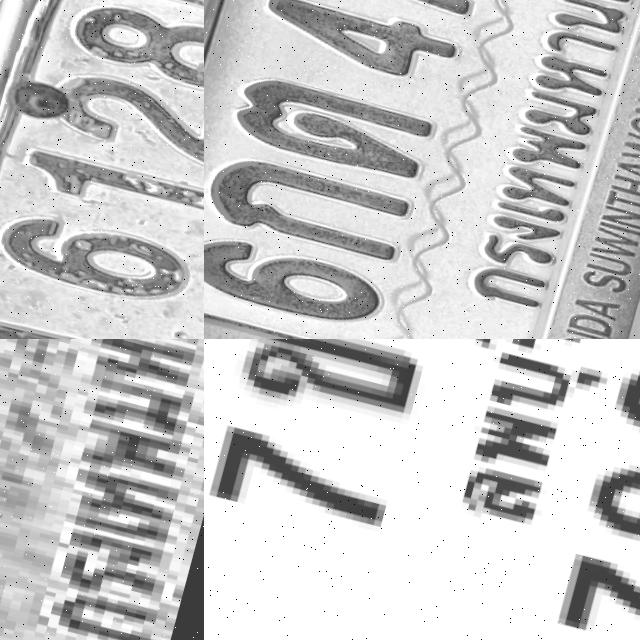license-plate: (204, 0, 640, 339), (204, 339, 640, 640), (0, 0, 204, 339), (0, 339, 204, 640)
